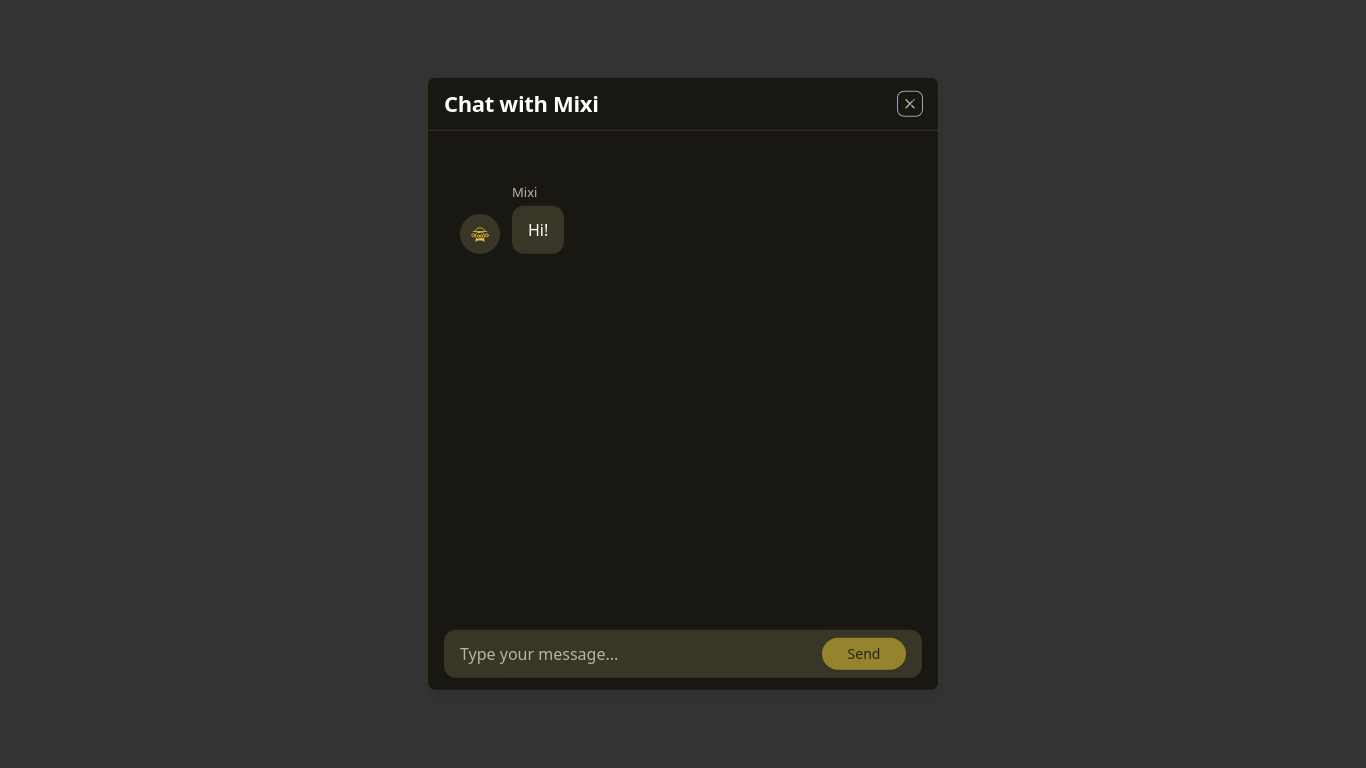
Test case: MixiChat Streaming Tests › Error handling › should handle missing response body gracefully
The width and height of the screenshot is (1366, 768).
Type "Test" into the field with test id "mixi-chat-input".
click(633, 654); type("Test")  # box top-left (444, 630), bottom-right (822, 678)
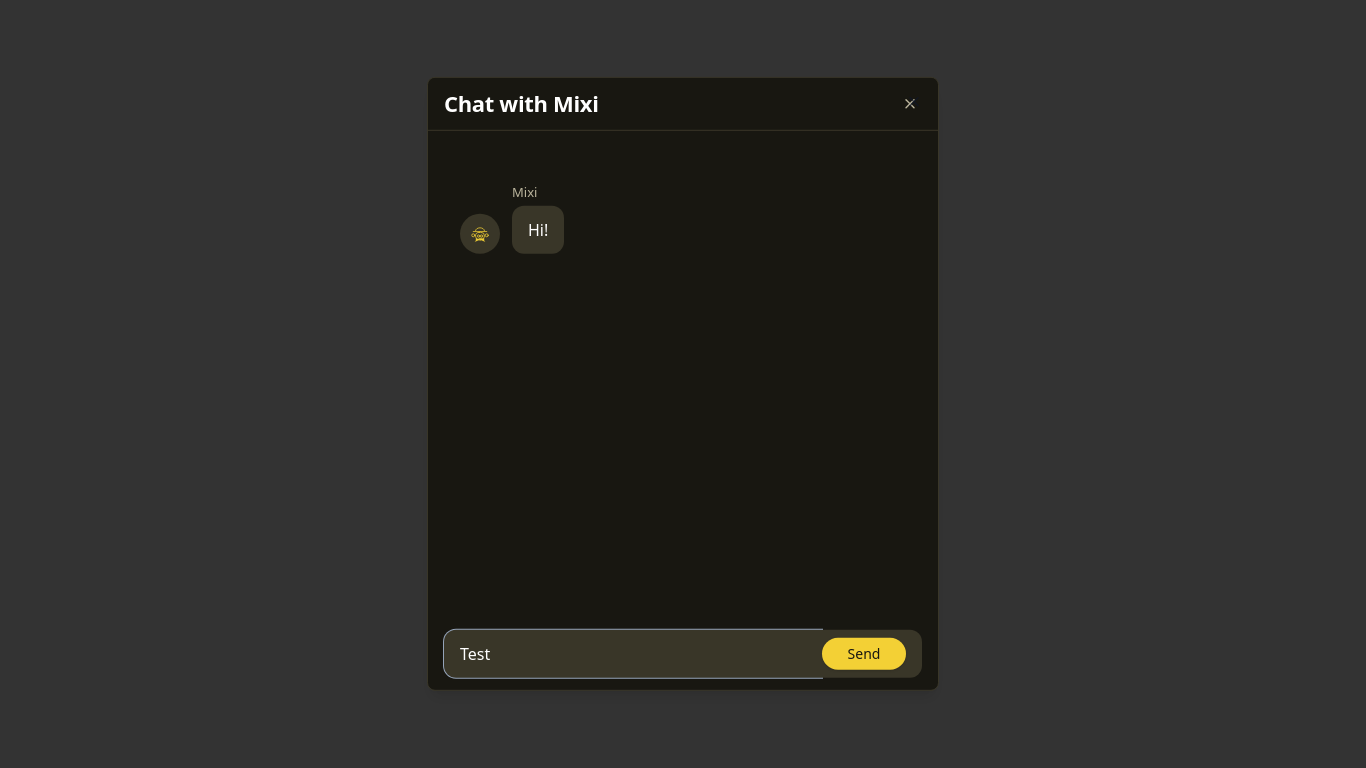
Click the button with test id "mixi-chat-send-button".
click(864, 654)  # box top-left (822, 638), bottom-right (906, 670)
Wait 100 ms
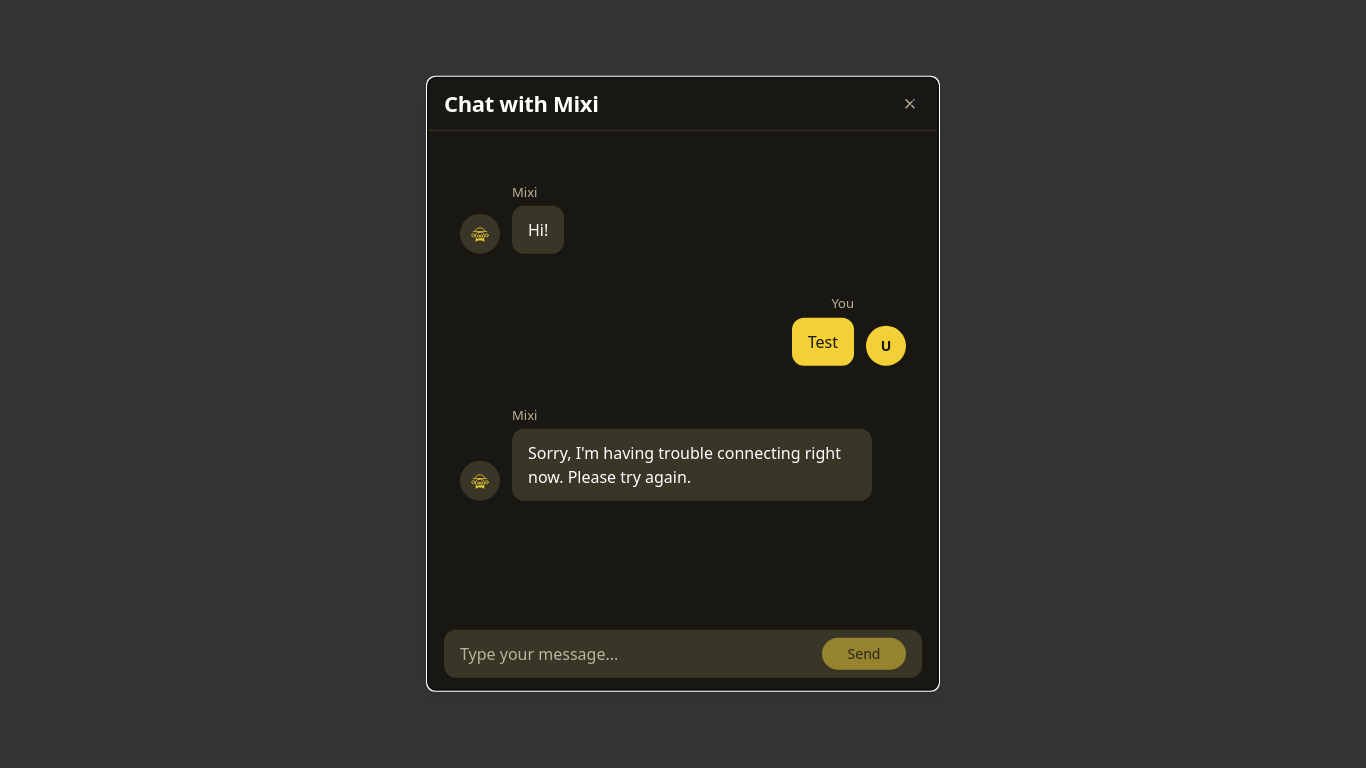
expect the element with test id "mixi-chat-messages" shows "trouble connecting": met, box top-left (528, 442), bottom-right (841, 488)
